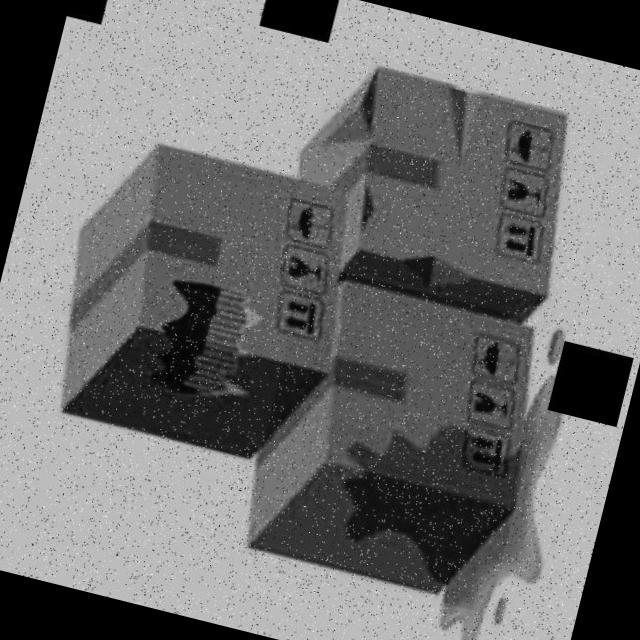box: (27, 124, 370, 478), (236, 257, 562, 614), (276, 46, 591, 322)
